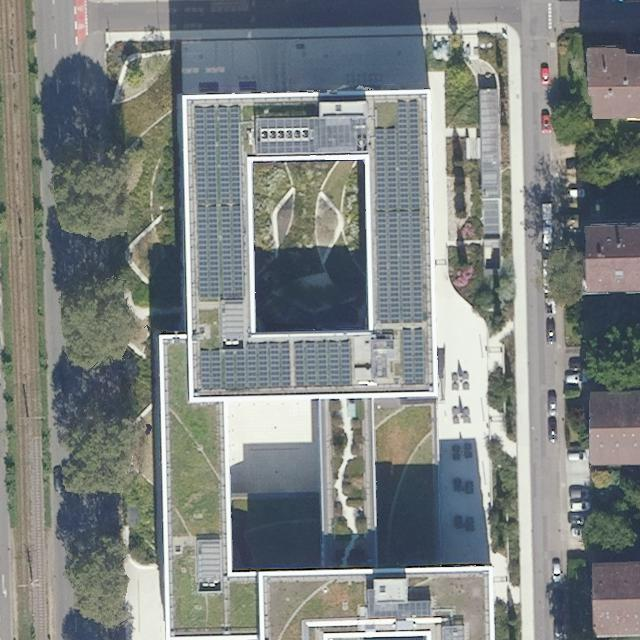PV: (374, 100, 425, 326), (193, 105, 243, 301), (195, 337, 352, 394), (402, 327, 426, 384)
